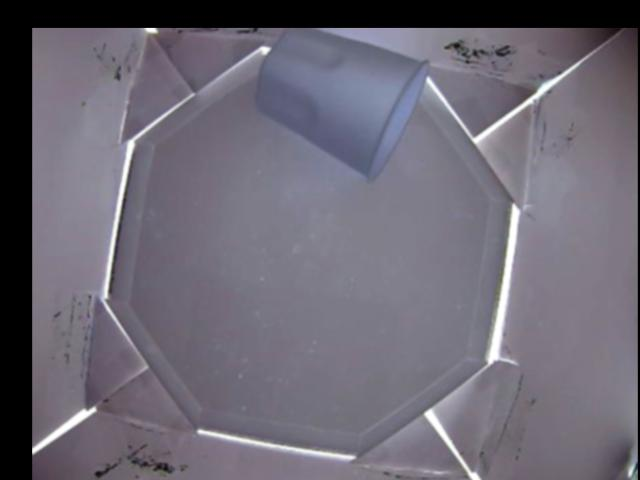Cup: (252, 28, 431, 180)
